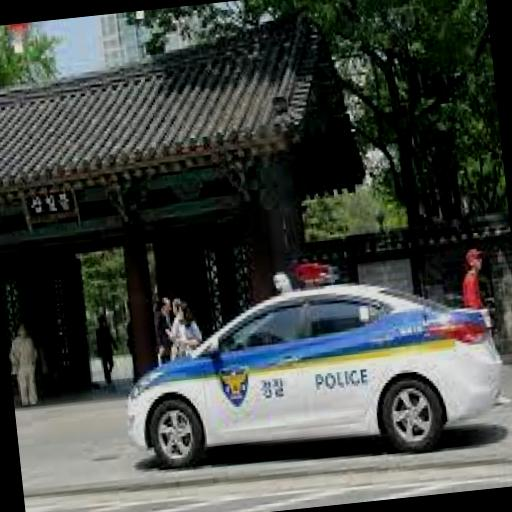Ambulance: (117, 245, 511, 478)
